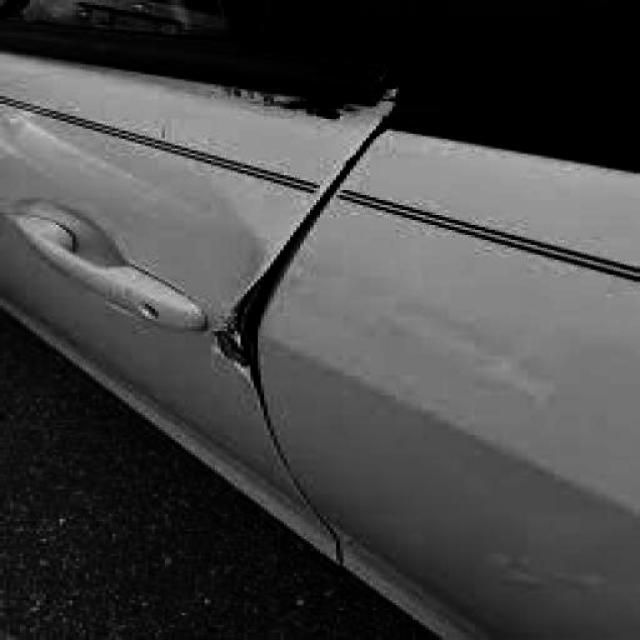car damage: (201, 113, 389, 427), (228, 70, 380, 127)
